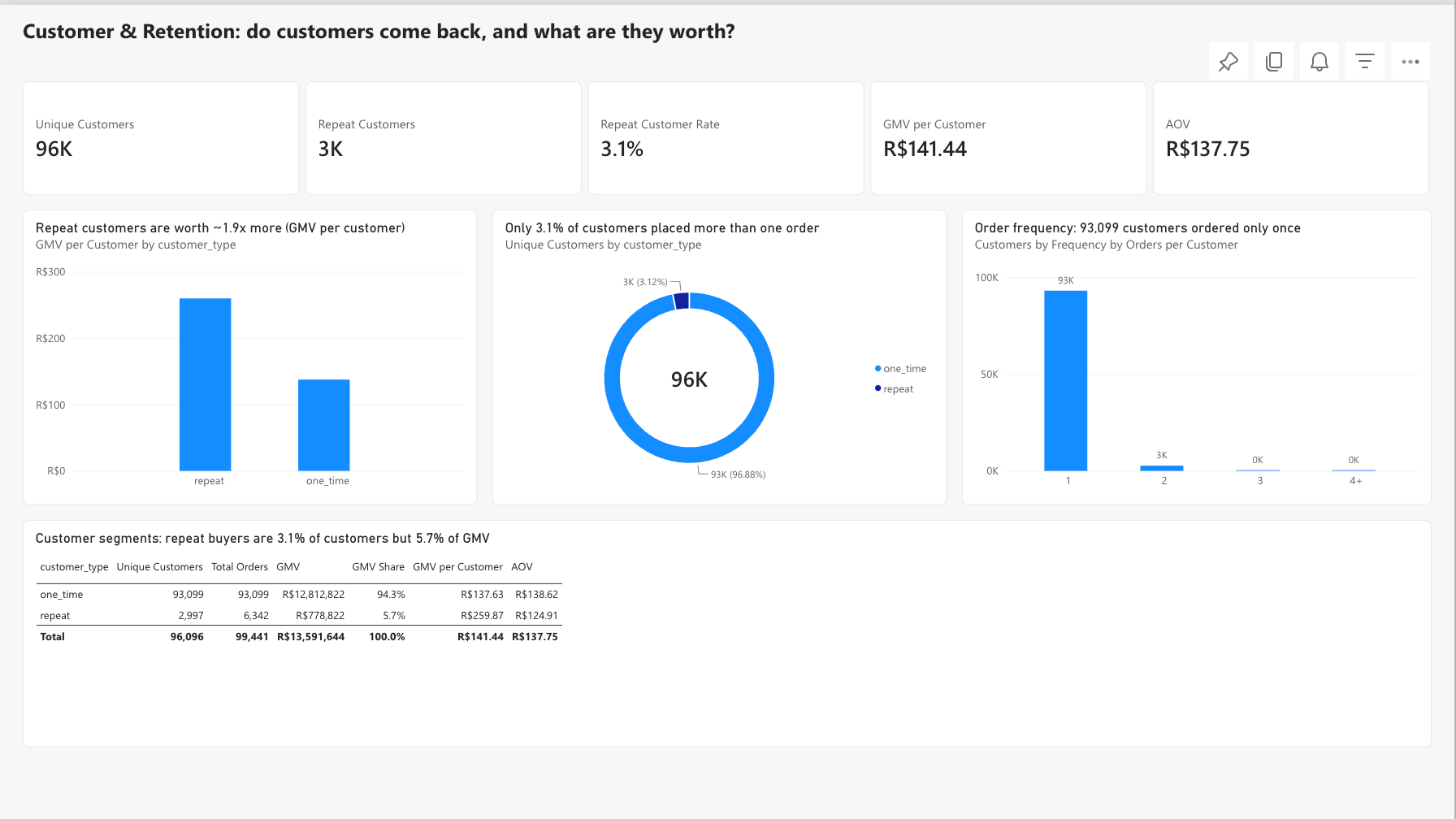

Layout of this report page (visuals, bound fields, positions):
{"tool":"powerbi","page":{"name":"Customer & Retention","canvas":[1920,1080],"ordinal":1},"visuals":[{"type":"textbox","box":[30,15,1820,75],"z":0},{"type":"cardVisual","fields":{"Data":["orders.Unique Customers","orders.Repeat Customers","orders.Repeat Customer Rate","orders.GMV per Customer","orders.AOV"]},"box":[30,100,1860,150],"z":1},{"type":"clusteredColumnChart","title":"Repeat customers are worth ~1.9x more (GMV per customer)","fields":{"Category":["orders.customer_type"],"Y":["orders.GMV per Customer"]},"box":[30,270,600,390],"z":2},{"type":"donutChart","title":"Only 3.1% of customers placed more than one order","fields":{"Category":["orders.customer_type"],"Y":["orders.Unique Customers"]},"box":[650,270,600,390],"z":3},{"type":"clusteredColumnChart","title":"Order frequency: 93,099 customers ordered only once","fields":{"Category":["customer_frequency 1.Orders per Customer"],"Y":["orders.Customers by Frequency"]},"box":[1270,270,620,390],"z":4},{"type":"tableEx","title":"Customer segments: repeat buyers are 3.1% of customers but 5.7% of GMV","fields":{"Values":["orders.customer_type","orders.Unique Customers","orders.Total Orders","orders.GMV","orders.GMV Share","orders.GMV per Customer","orders.AOV"]},"box":[30,680,1860,300],"z":5}]}

Visuals, with their boxes on the page's 1920x1080 design canvas (x1, y1, x2, y2). These are canvas units, not pixel positions in the 1456x819 screenshot, which may show the page scaled, cropped or inside an application window:
textbox: left=30, top=15, right=1850, bottom=90
cardVisual - orders.Unique Customers x orders.Repeat Customers: left=30, top=100, right=1890, bottom=250
"Repeat customers are worth ~1.9x more (GMV per customer)" clusteredColumnChart: left=30, top=270, right=630, bottom=660
"Only 3.1% of customers placed more than one order" donutChart: left=650, top=270, right=1250, bottom=660
"Order frequency: 93,099 customers ordered only once" clusteredColumnChart: left=1270, top=270, right=1890, bottom=660
"Customer segments: repeat buyers are 3.1% of customers but 5.7% of GMV" tableEx: left=30, top=680, right=1890, bottom=980
